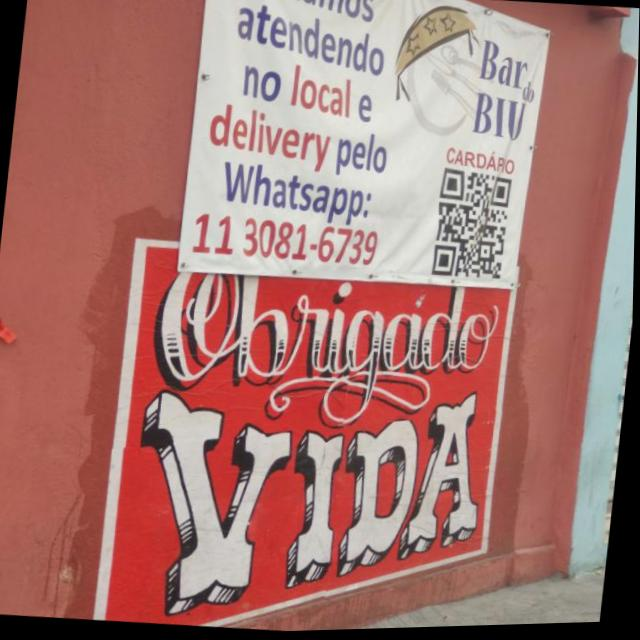qrcode: (433, 169, 515, 285)
